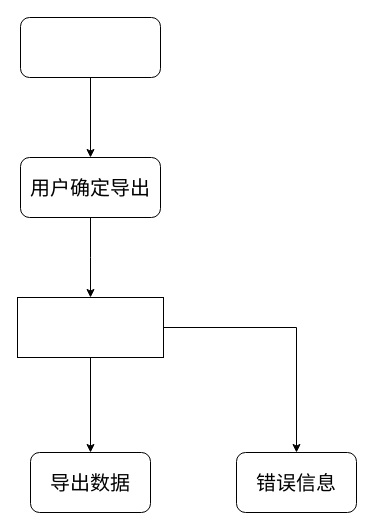
Image size: 374x530. Some labels were removed from this diagram. The shapes that lost their labels are listed below. From the top down, each one's centre as x and y in pixels, then its label:
At [90,47]: "用户自由选课".
At [90,327]: "生成数据并导出".
